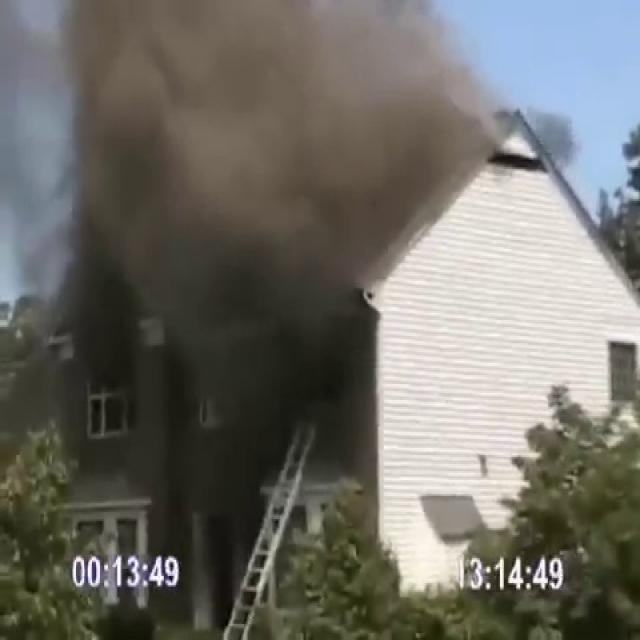Smoke: (1, 0, 519, 599)
